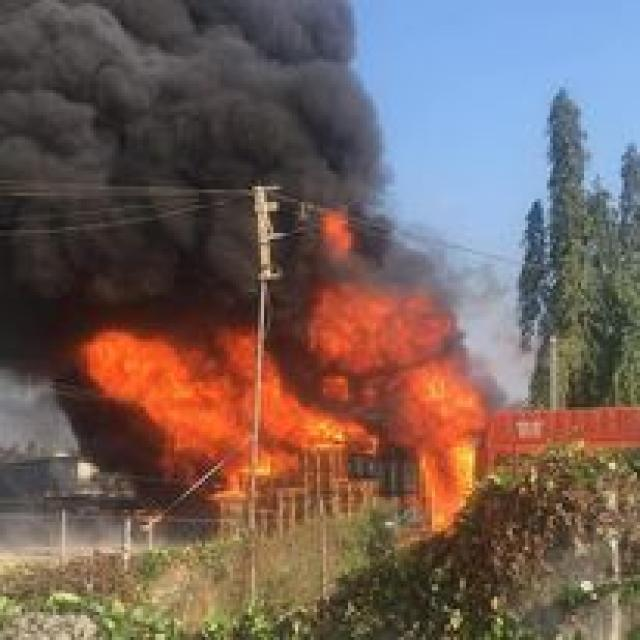Fire: (64, 202, 487, 542)
Smoke: (0, 0, 388, 364), (43, 364, 195, 499)
